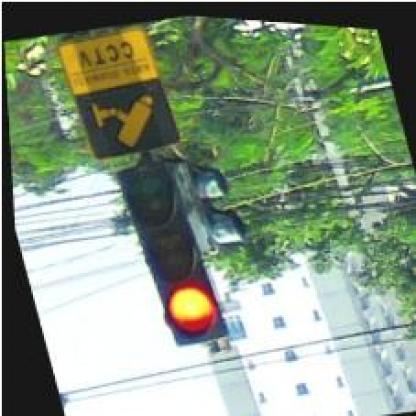red: (112, 156, 225, 350)
